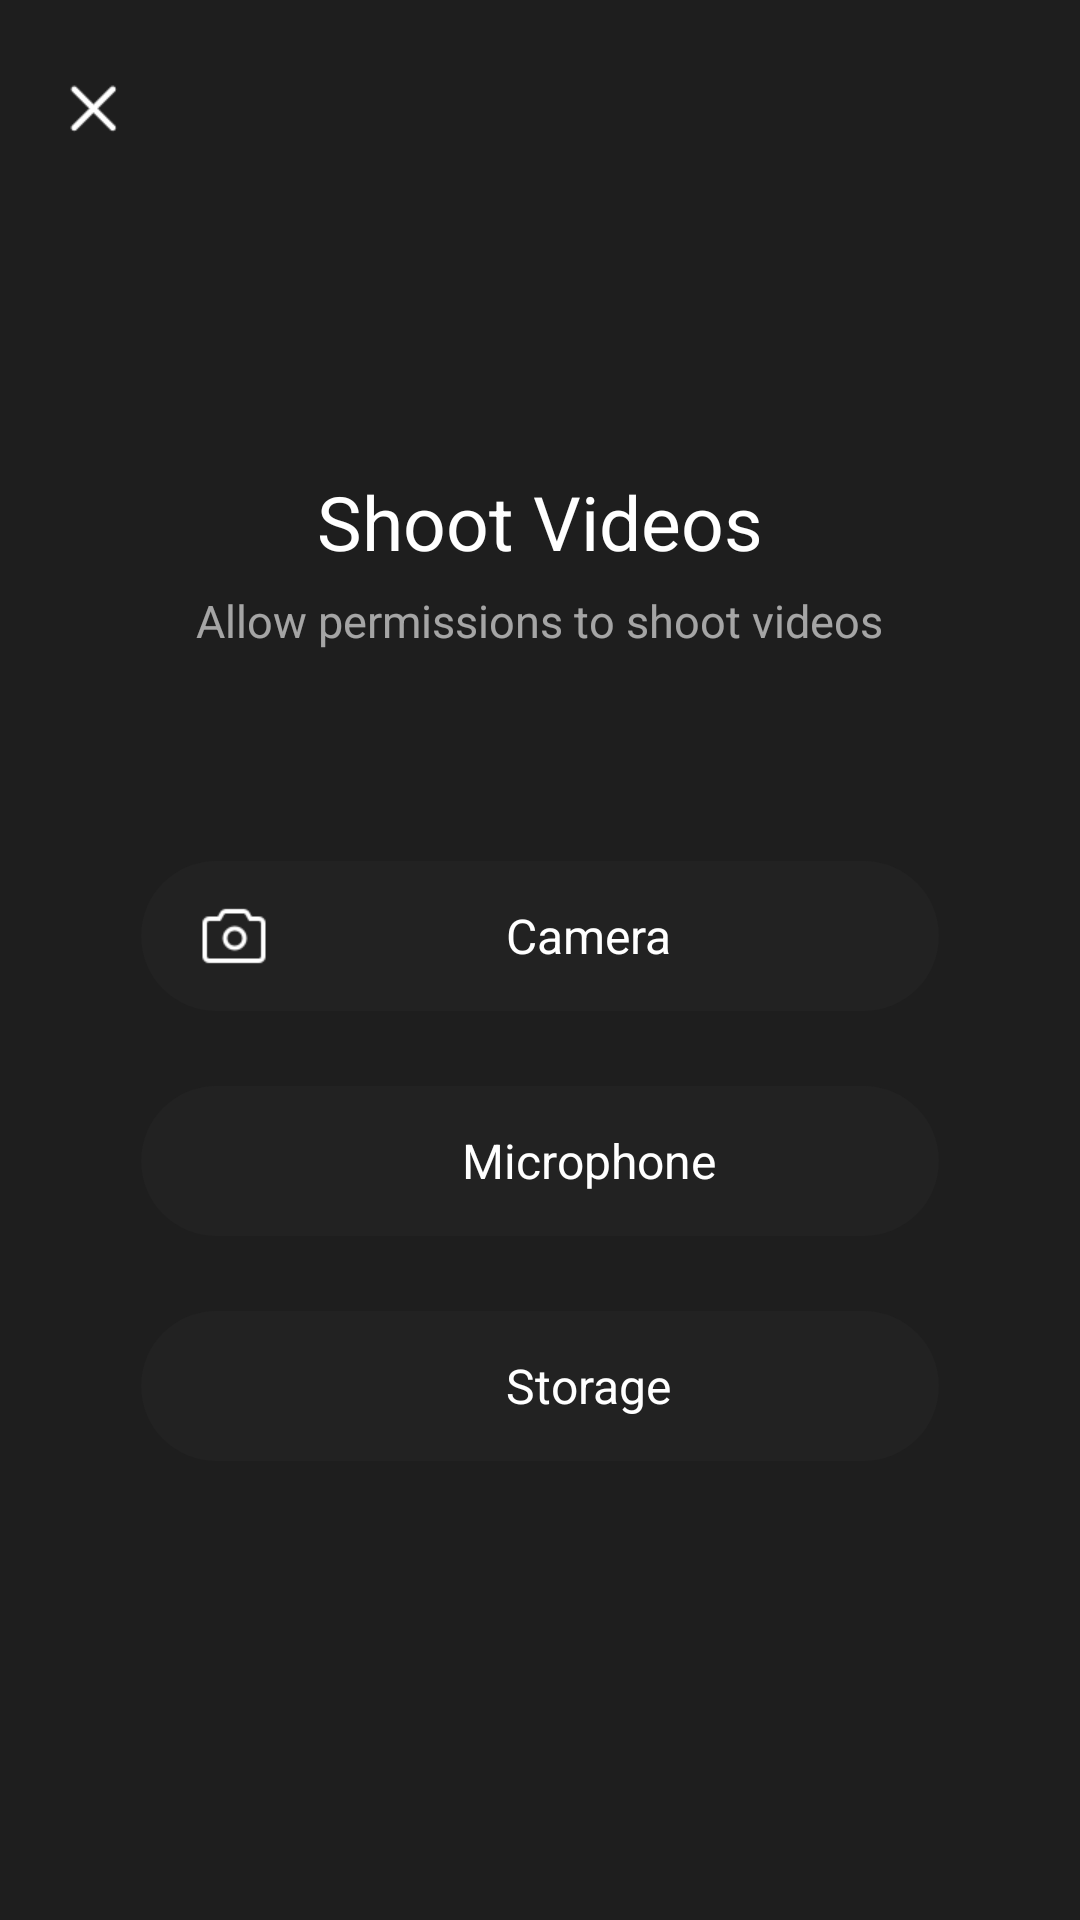

Named icons in this screenshot (1080w x 1920h) and their centers, [x,y]:
close nor: [93,108]
photo: [234,936]
